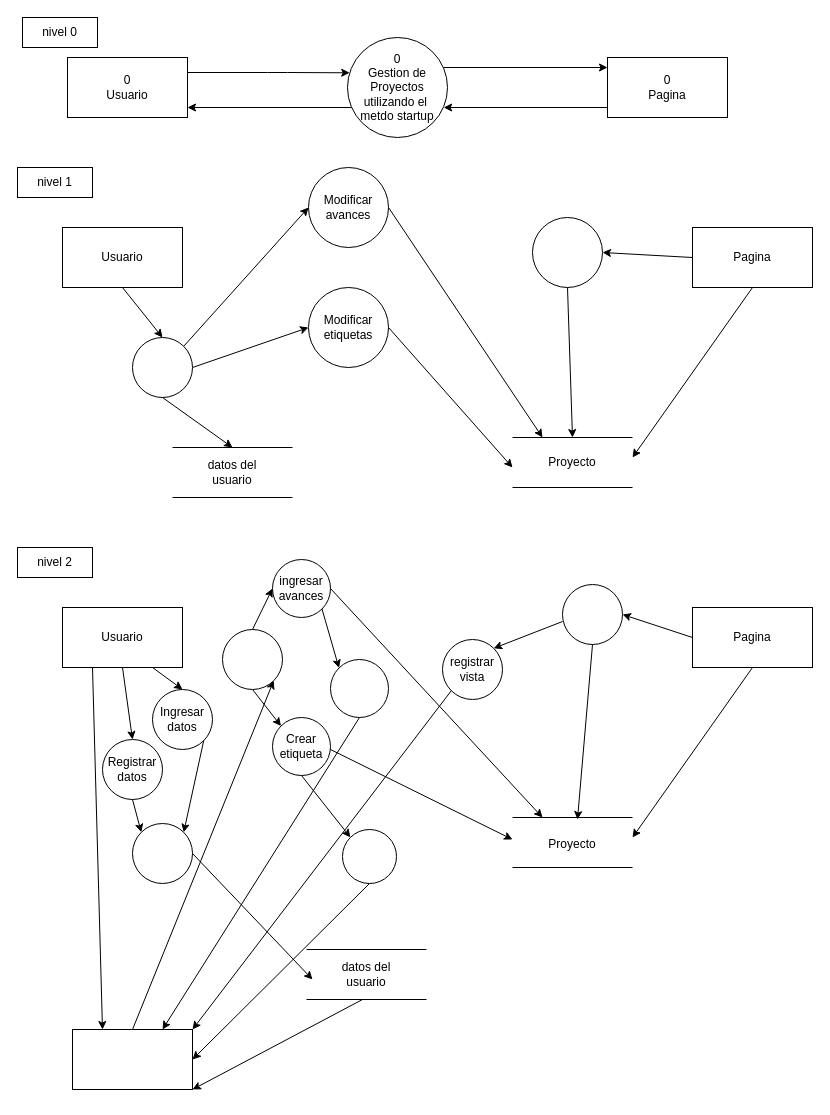
Some shapes in this 830 by 1115 pixel diagram are drawn without their labels. Each missing label, with the centre of its shape:
Base de datos: pixel 132 1059
comprobar datos: pixel 162 853
ingresar vista: pixel 592 614
login: pixel 162 367
logueado: pixel 252 659
modificar vista: pixel 567 252
registrar avances: pixel 359 688
registrar etiqueta: pixel 369 856
